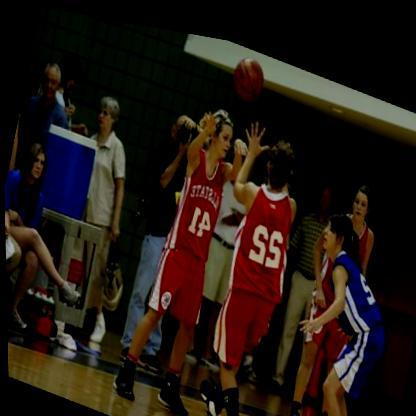basketball: (228, 41, 268, 98)
